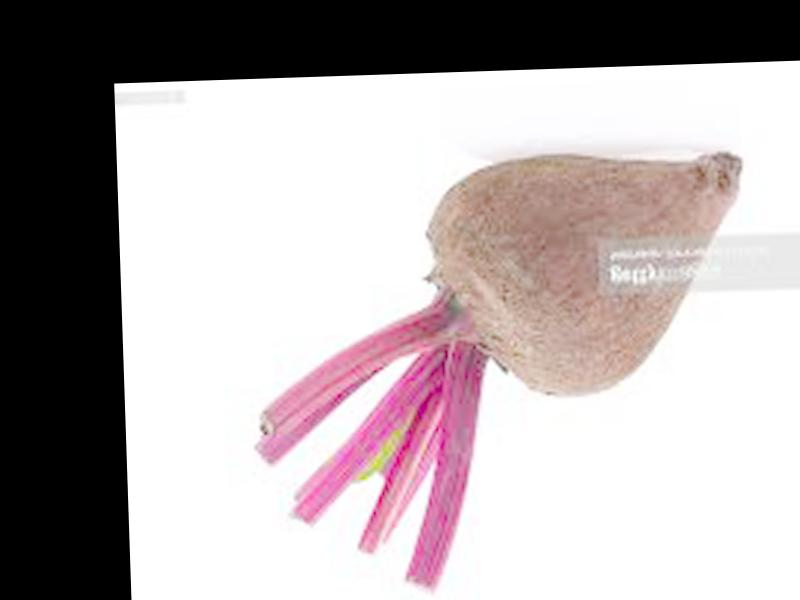Beet: (245, 150, 756, 596)
